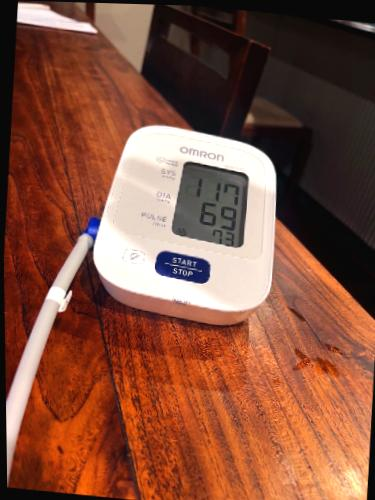bpm: (168, 159, 256, 250)
